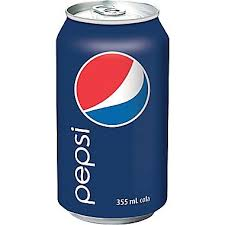can: (44, 2, 177, 225)
